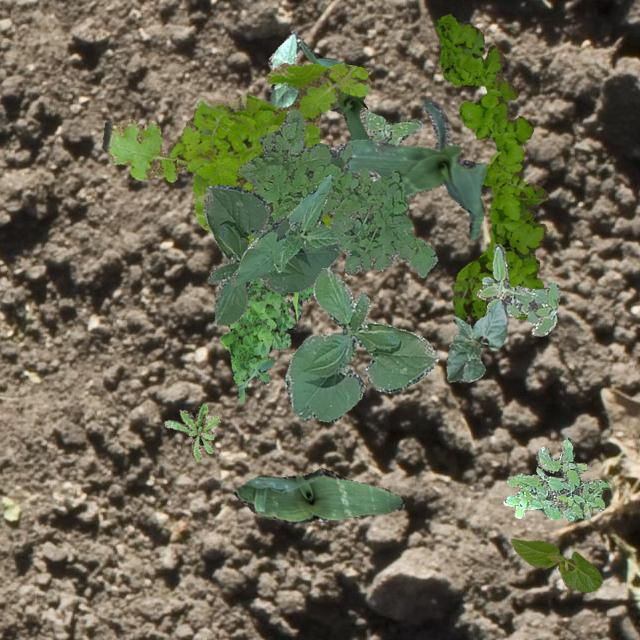crop: (284, 266, 438, 422), (330, 96, 486, 238), (202, 184, 338, 324), (230, 174, 336, 286), (232, 468, 404, 522), (298, 37, 368, 139), (446, 298, 506, 382), (509, 538, 602, 592), (268, 29, 298, 106)
weed: (100, 62, 370, 244), (436, 12, 548, 320), (236, 108, 436, 276), (220, 276, 312, 402), (502, 436, 610, 520), (476, 242, 558, 334), (358, 106, 422, 182), (164, 402, 218, 460)
